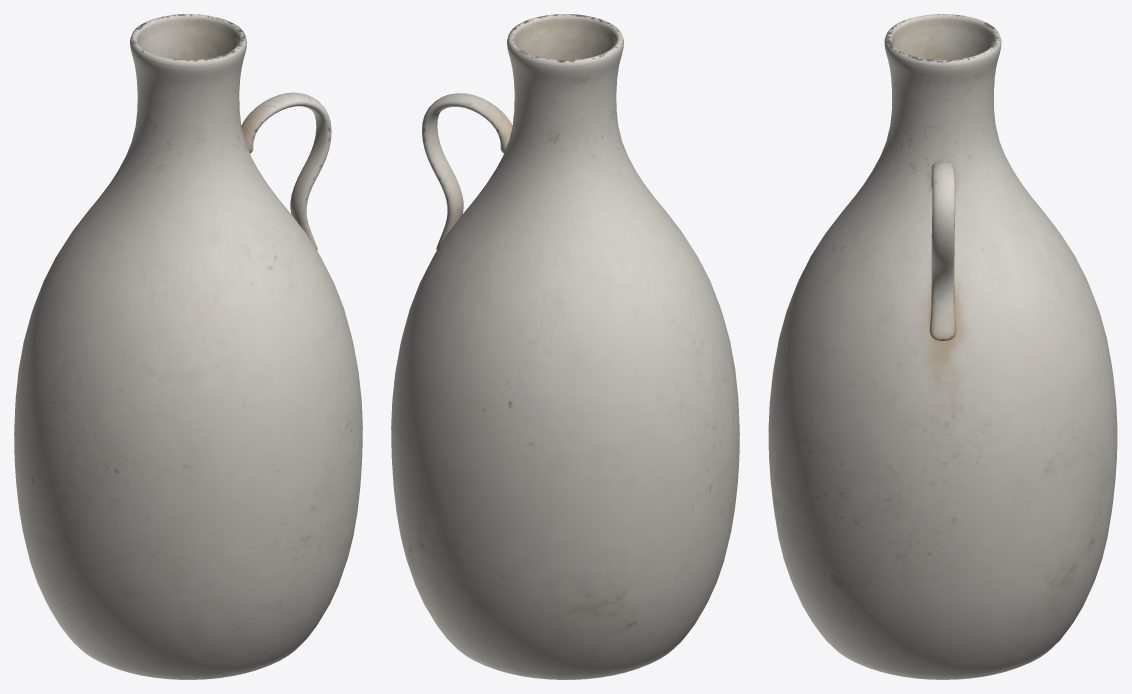
Rendered from ceramic_vase_04.glb.
3 renders of one model, left to right at view 1: azimuth 30°, elevation 25°; view 2: azimuth 150°, elevation 25°; view 3: azimuth 270°, elevation 25°, orthographic.
Visible parts, largest first — view 1: ceramic_vase_04; view 2: ceramic_vase_04; view 3: ceramic_vase_04.
Part boxes in pixels (x1,y1,x2,y2): ceramic_vase_04: [14, 14, 362, 679]; ceramic_vase_04: [391, 14, 739, 679]; ceramic_vase_04: [768, 14, 1117, 679].
Bounding box in the file's own units: 0.1811 × 0.3419 × 0.1811.
Materials: 1 (1 with a texture image).
